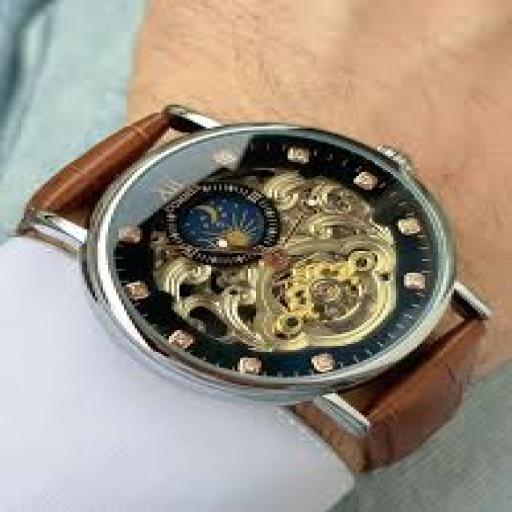KolSaati: (2, 88, 496, 466)
